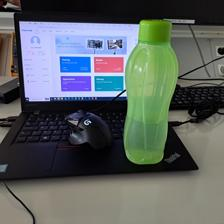bottle: (121, 18, 179, 165)
mouse: (63, 109, 113, 150)
